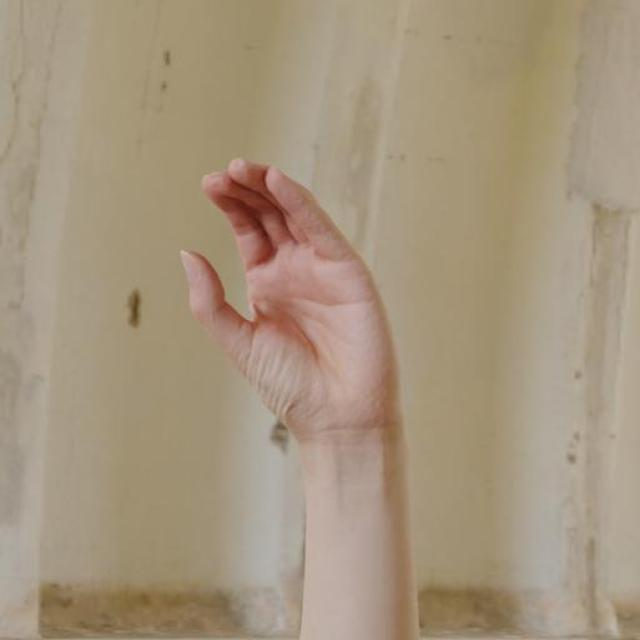C: (177, 154, 412, 446)
